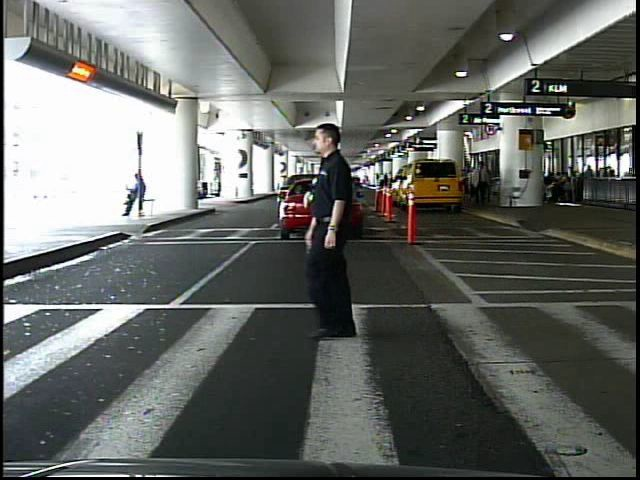person: (296, 125, 379, 344), (473, 163, 490, 208)
